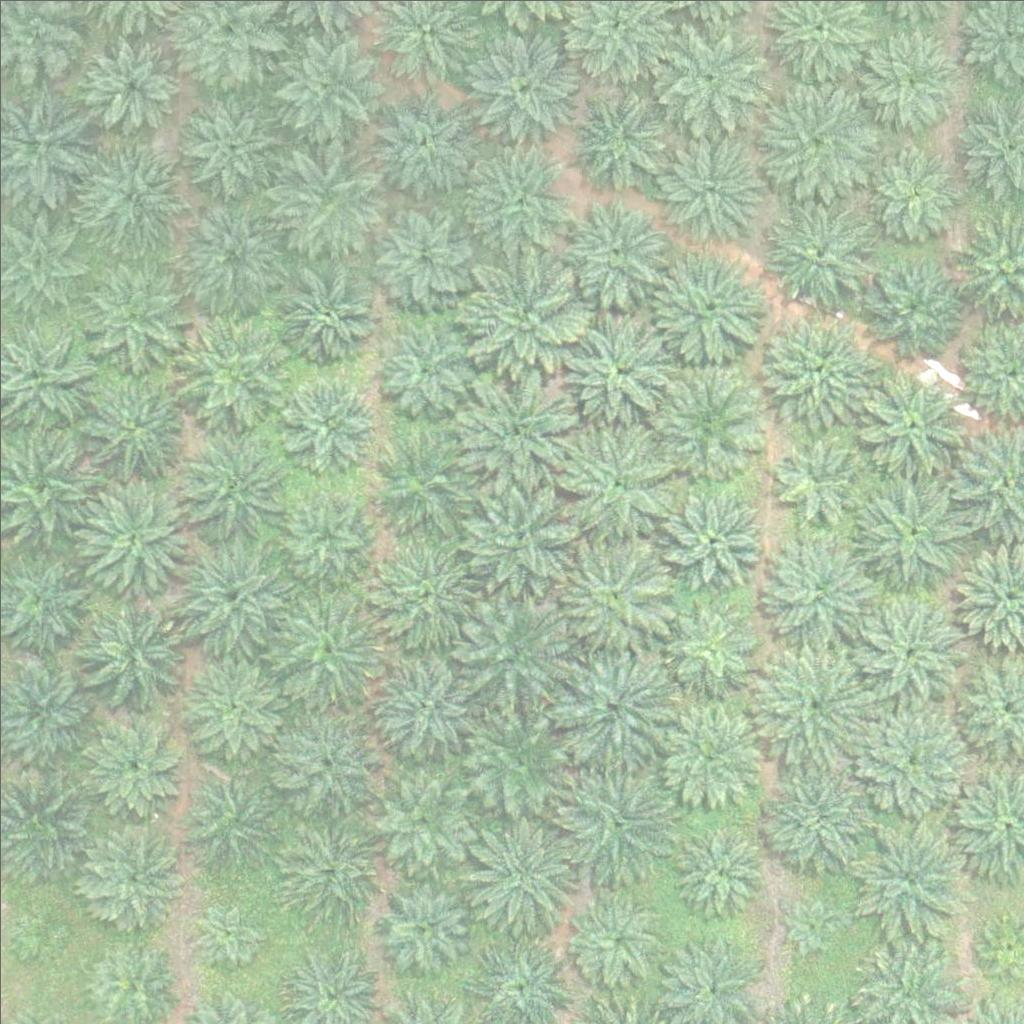Kelapa_Sawit: (465, 707, 578, 821), (559, 771, 672, 885), (458, 597, 571, 711), (173, 431, 286, 545), (75, 255, 188, 369), (72, 135, 185, 249), (559, 650, 672, 763), (856, 826, 969, 939), (852, 703, 965, 816), (857, 591, 970, 704), (854, 477, 967, 590), (853, 372, 966, 485), (759, 312, 872, 425), (649, 253, 762, 366), (558, 537, 671, 650), (463, 478, 576, 591), (461, 372, 574, 485), (467, 257, 580, 370), (269, 599, 382, 712), (172, 539, 285, 652), (78, 478, 191, 591), (76, 369, 189, 482), (268, 26, 381, 139), (653, 131, 766, 244), (649, 15, 762, 128), (762, 196, 875, 309), (757, 82, 870, 195), (371, 646, 483, 760), (363, 538, 475, 652), (173, 306, 285, 420), (272, 702, 384, 815), (464, 822, 576, 935), (653, 695, 765, 808), (759, 761, 871, 874), (757, 648, 869, 761), (763, 530, 875, 643), (651, 367, 763, 480), (557, 425, 669, 538), (559, 319, 671, 432), (366, 424, 478, 537), (177, 198, 289, 311), (76, 598, 188, 711), (274, 144, 386, 257), (462, 140, 574, 253), (465, 29, 577, 142), (555, 195, 667, 308), (86, 828, 186, 929), (86, 717, 186, 818), (179, 772, 279, 873), (181, 656, 281, 757), (284, 816, 384, 917), (371, 872, 471, 973), (371, 769, 471, 870), (864, 257, 964, 358), (764, 424, 864, 525), (660, 602, 760, 703), (664, 491, 764, 592), (374, 319, 474, 420), (372, 200, 472, 301), (272, 258, 372, 359), (80, 34, 180, 135), (178, 93, 278, 194), (372, 96, 472, 197), (562, 90, 662, 191), (567, 891, 667, 991), (669, 822, 769, 922), (277, 372, 377, 472), (863, 139, 963, 239), (858, 25, 958, 125), (283, 487, 371, 575), (193, 892, 268, 967), (9, 900, 71, 963), (780, 895, 842, 958)
